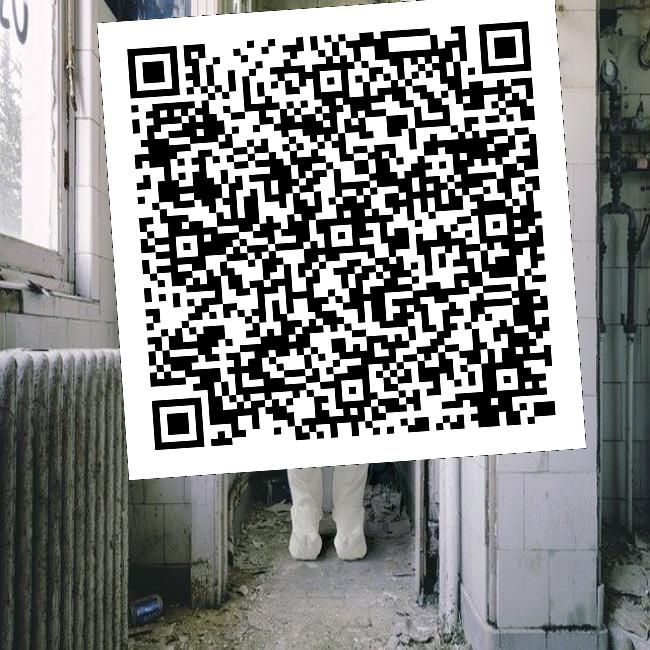qr_code: (97, 0, 585, 484)
